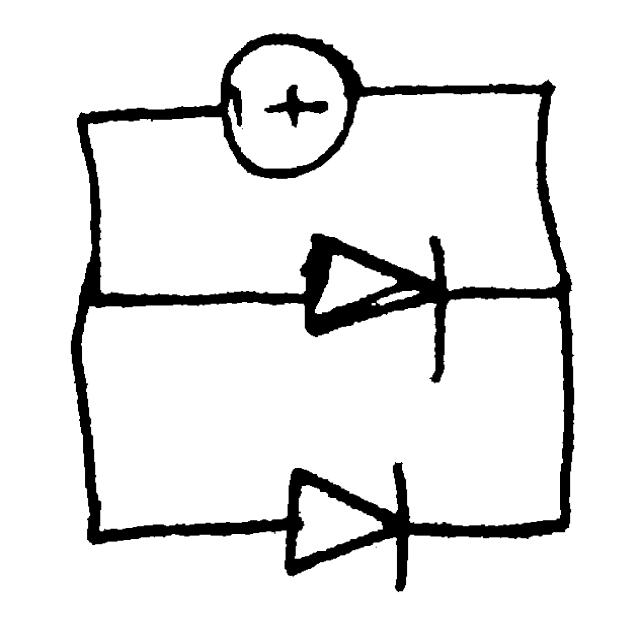dc: (202, 24, 380, 188)
diode: (284, 220, 474, 386), (262, 448, 434, 606)
